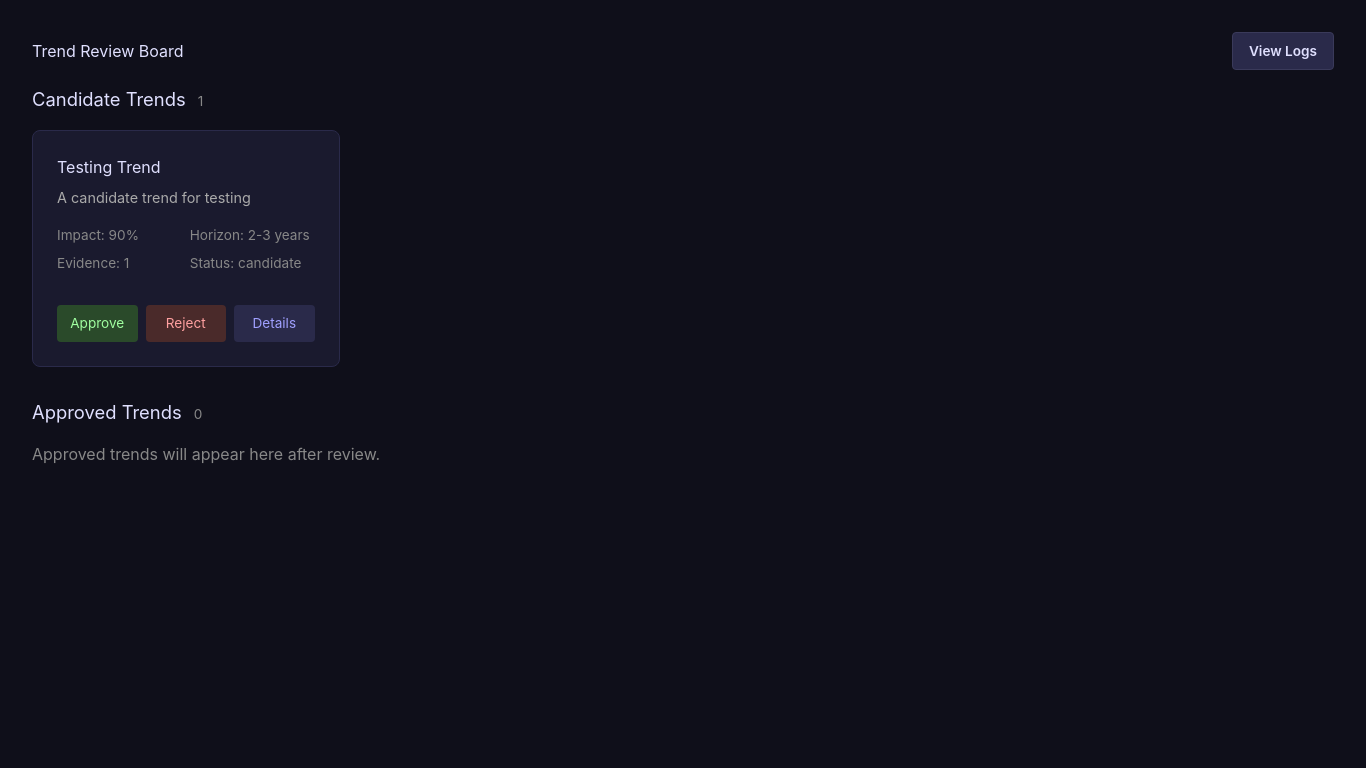
Test case: TrendReviewBoard › shows a readable trend development timeline with score movement and linked evidence
Click the button "Details" at (274, 324), box [234,305,314,342]
(page scrolled)
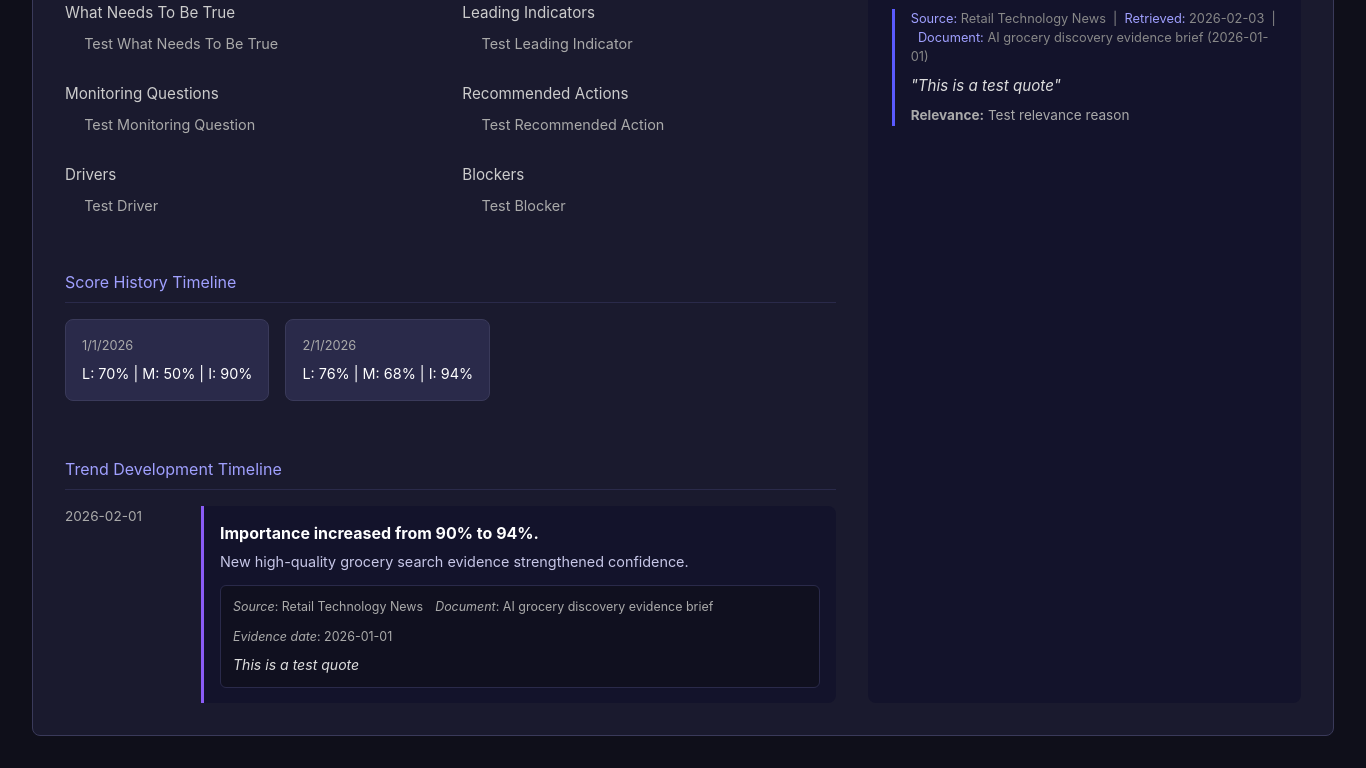
Check: the heading "Trend Development Timeline" is shown, box [65,457,836,490]
Check: the text "Importance increased from 90% to 94%." is shown, box [220,523,539,543]
Check: the text "New high-quality grocery search evidence strengthened confidence" is shown, box [220,553,689,570]
